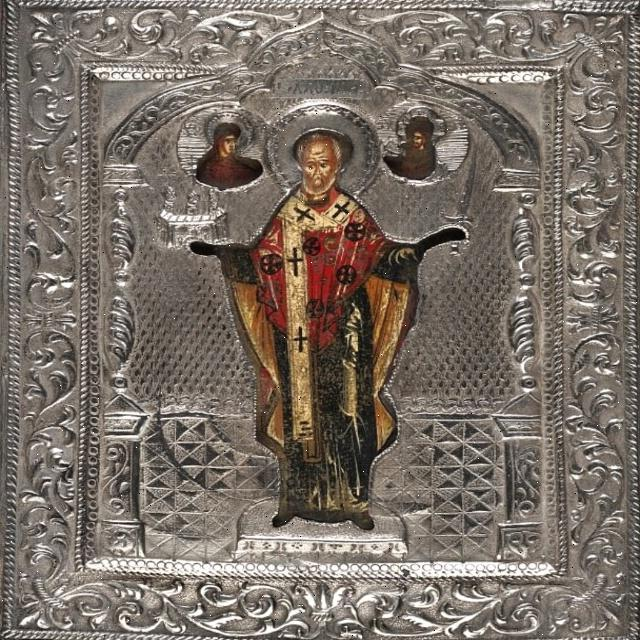aura: (267, 98, 376, 198), (205, 108, 254, 148), (400, 107, 445, 144)
cross: (288, 246, 306, 282), (293, 324, 310, 356), (294, 204, 318, 221), (331, 203, 350, 221)
saint: (263, 97, 380, 530)
